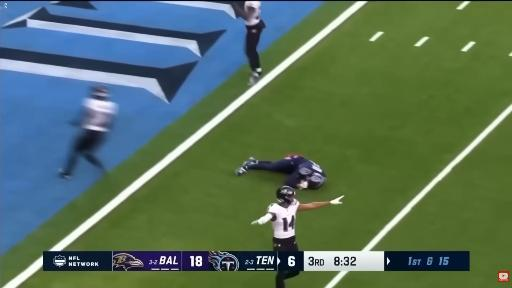Helmet: (277, 186, 295, 203), (92, 85, 109, 100), (307, 175, 322, 190)
Jersey: (286, 156, 326, 189), (268, 200, 299, 238), (82, 99, 118, 131), (244, 2, 260, 26)
Player: (252, 186, 343, 251), (60, 86, 118, 178), (236, 155, 326, 189), (234, 2, 265, 85)
